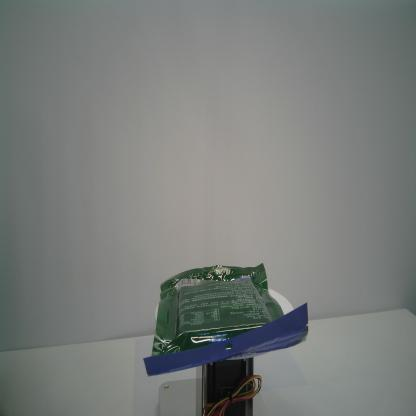Dried Food: (142, 262, 309, 378)
